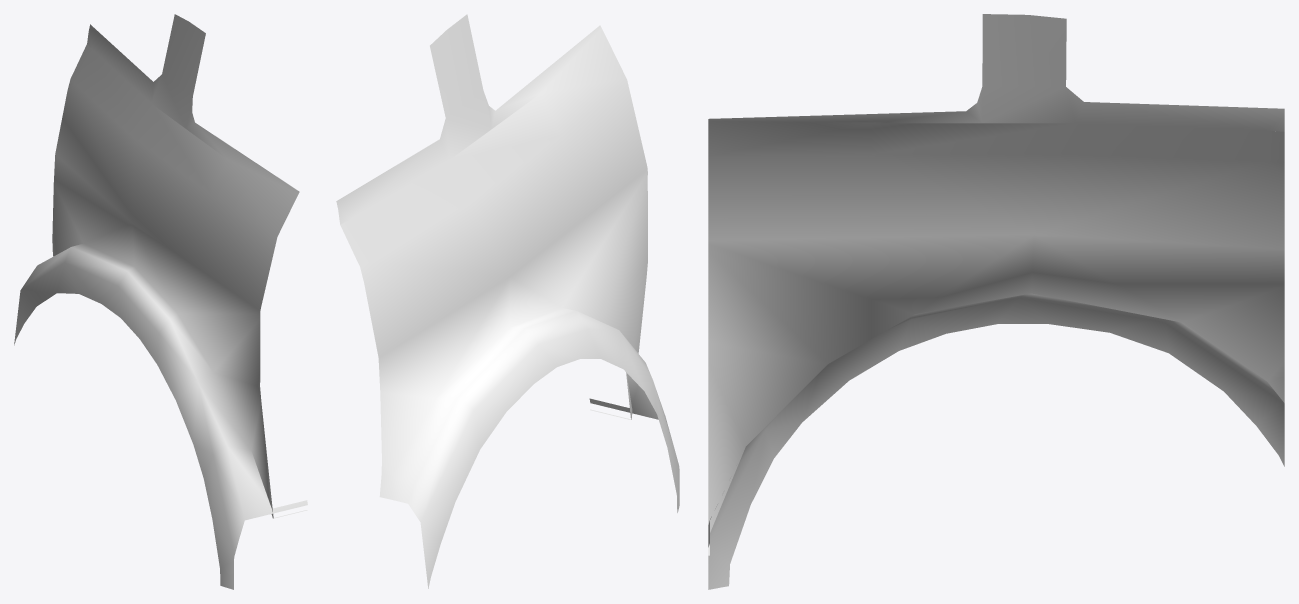
3 renders of one model, left to right at view 1: azimuth 30°, elevation 25°; view 2: azimuth 150°, elevation 25°; view 3: azimuth 270°, elevation 25°, orthographic. The views are drawn at different scales.
Size of the model in its own units: 0.2869 by 1.59 by 1.33.
Materials: 1 (1 with a texture image).
